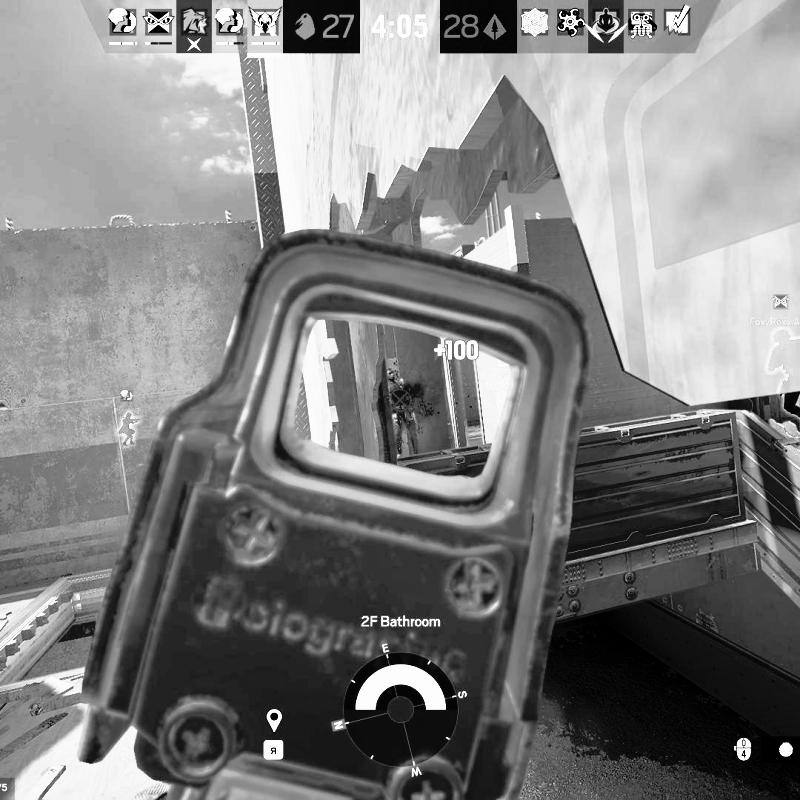Character: (384, 366, 422, 458)
Friend_label: (749, 291, 800, 328), (112, 388, 141, 417)
Head: (386, 367, 396, 381)
